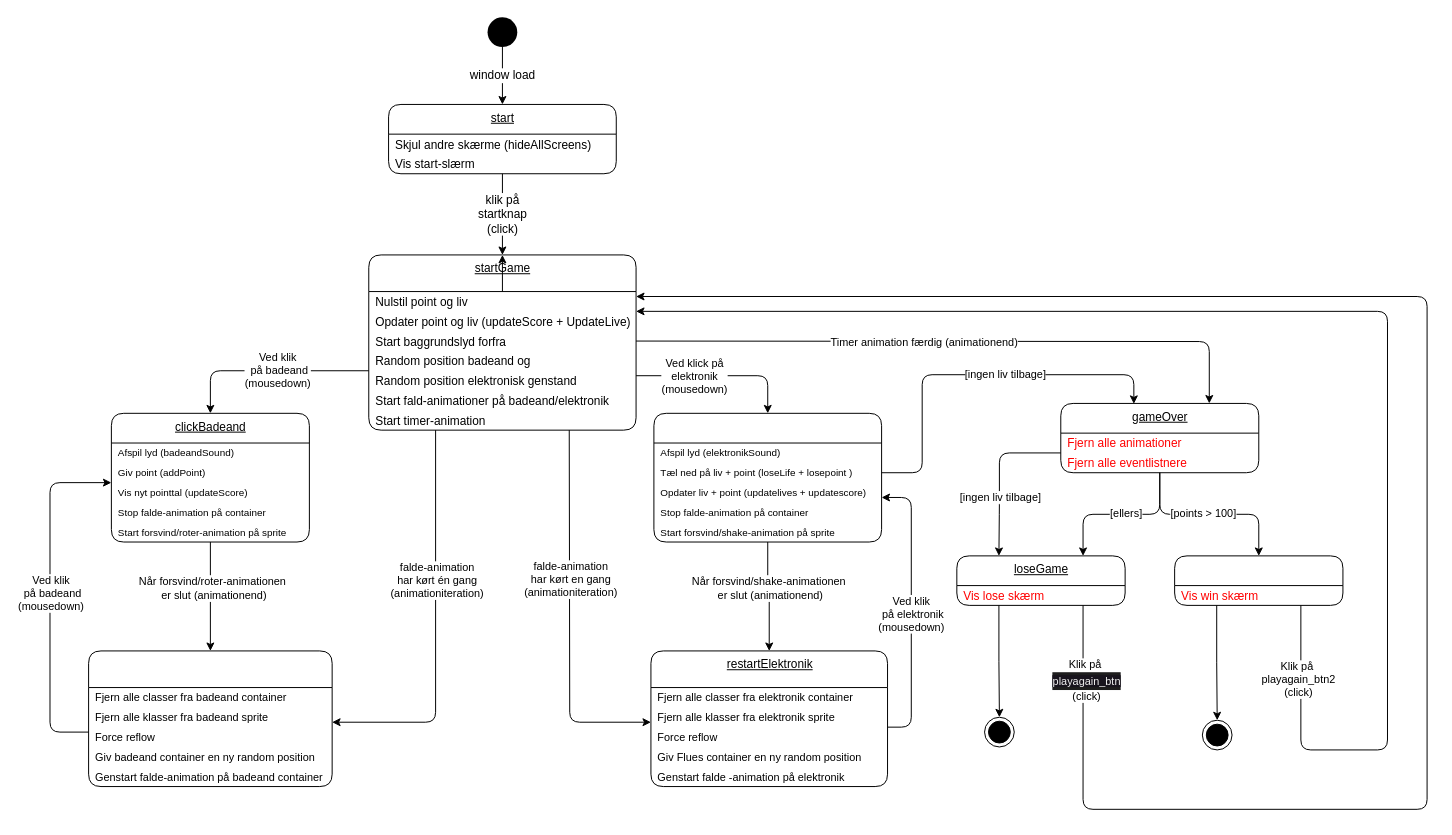
Image size: 1452x835. Some labels were removed from this diagram. The box of each missing label's shape, as (x1, y1, x2, y2) in pixels:
clickElektronik: (653, 412, 882, 542)
restartBadeand: (88, 650, 332, 787)
winGame: (1174, 555, 1343, 605)
